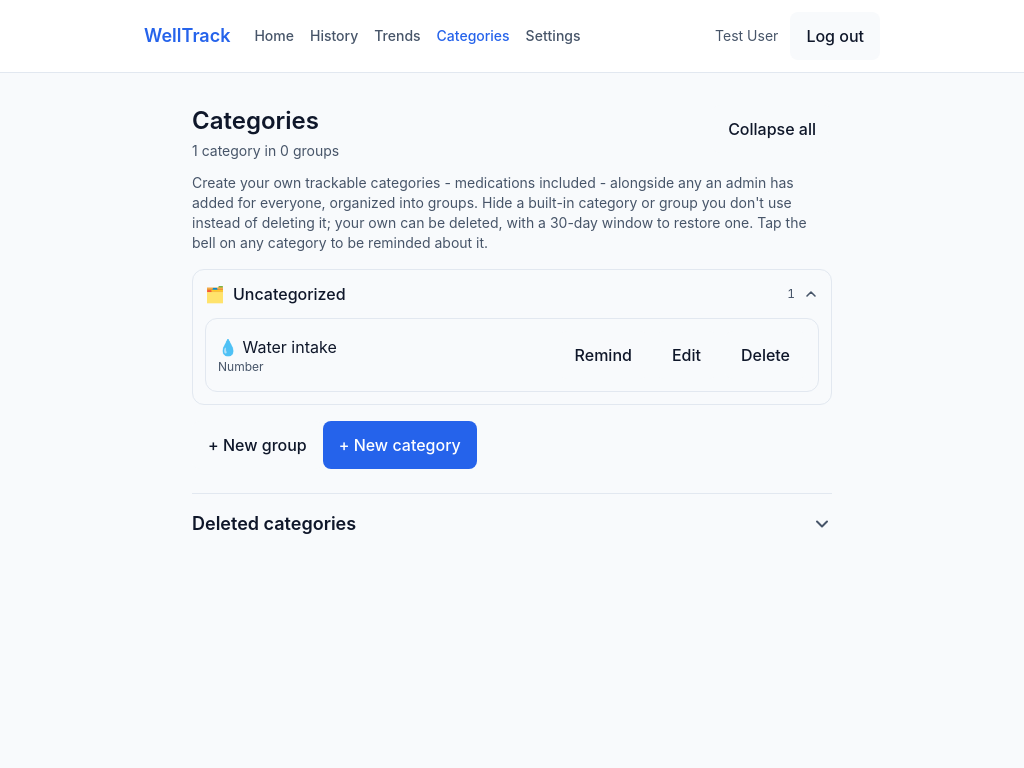
Test: CategoriesPage › edits the user's own category's name and icon
Expected: the text "💧 Water intake" is shown, [218,335,337,359]
Click the button with aria-label "Edit Water intake": point(686, 355) [656,331,717,379]
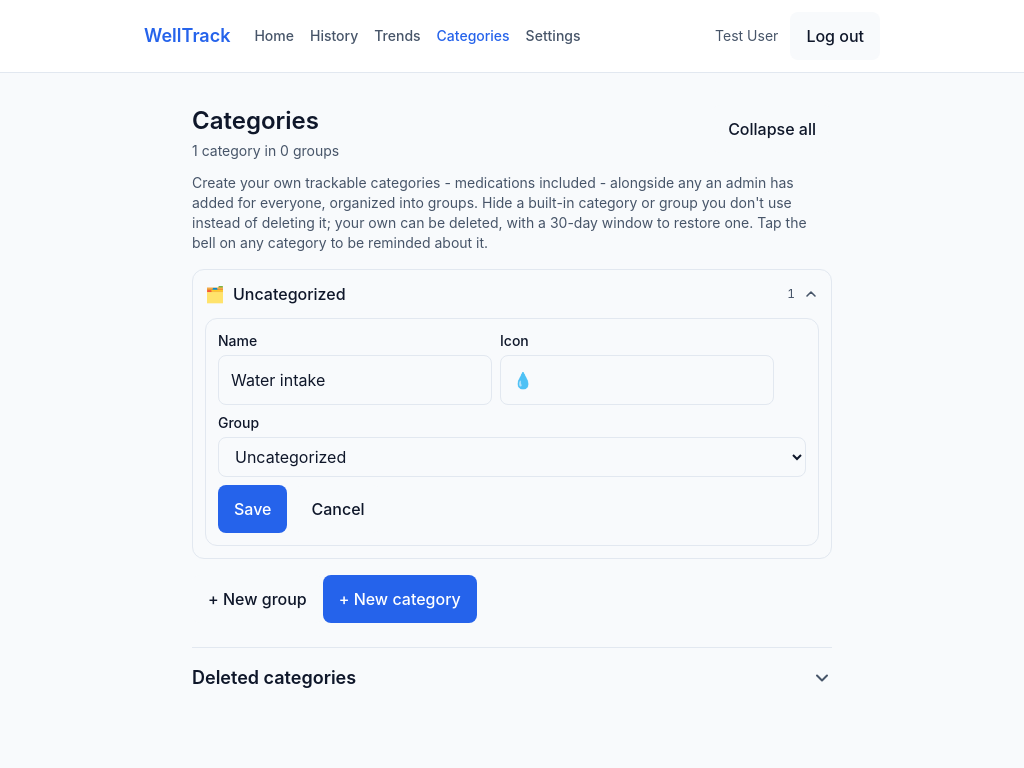
Replace the text in the field labelled "Name" with "Daily water": point(355, 380) [218,355,492,405]
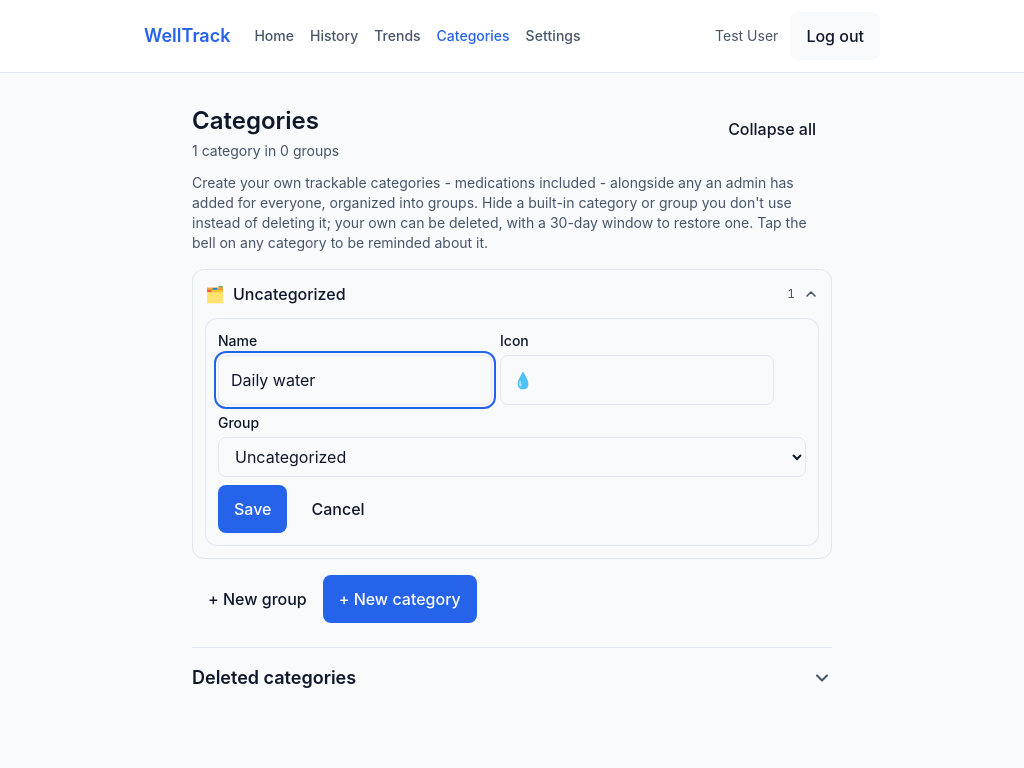
Click the button "Save": point(253, 509) [218,485,288,533]
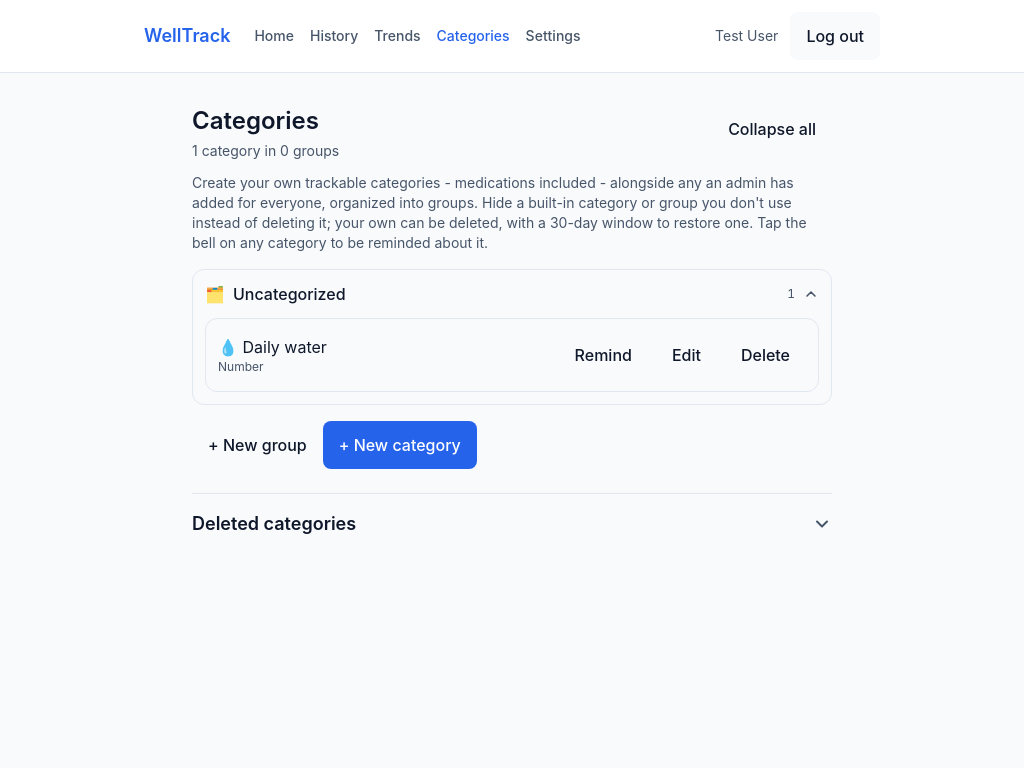
Expected: the text "💧 Daily water" is shown, [218,335,327,359]
